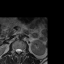CCS_normal: (17, 46, 19, 56)
LFS_normal: (21, 47, 23, 54)
LLS_normal: (19, 47, 21, 54)
RFS_normal: (13, 47, 15, 53)
RLS_normal: (15, 47, 17, 53)
